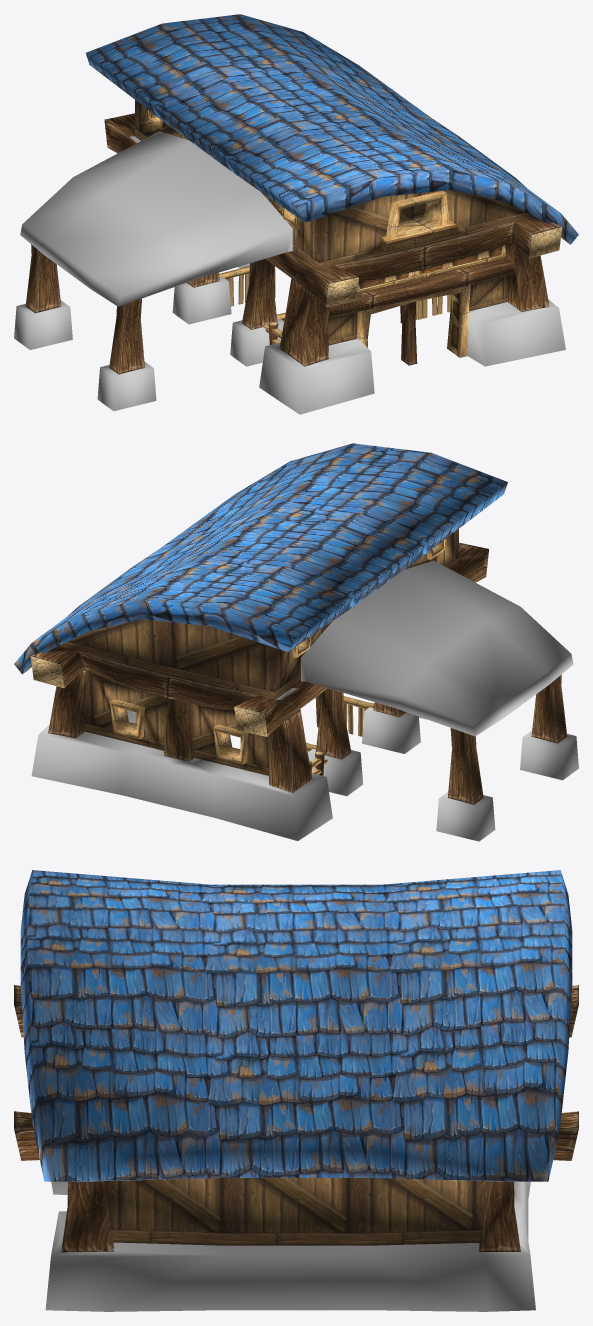
The model's file is stable.obj.
The picture shows the model from 3 angles, top to bottom: view 1: azimuth 30°, elevation 25°; view 2: azimuth 150°, elevation 25°; view 3: azimuth 270°, elevation 25°; orthographic projection. The views are drawn at different scales.
Parts seen in each view (by area): view 1: stable01; view 2: stable01; view 3: stable01.
Part boxes in pixels (bbox=[...]): stable01: bbox=[14, 14, 578, 414]; stable01: bbox=[14, 443, 578, 841]; stable01: bbox=[14, 870, 578, 1311].
Bounding box in the file's own units: 23.63 × 11.96 × 21.71.
